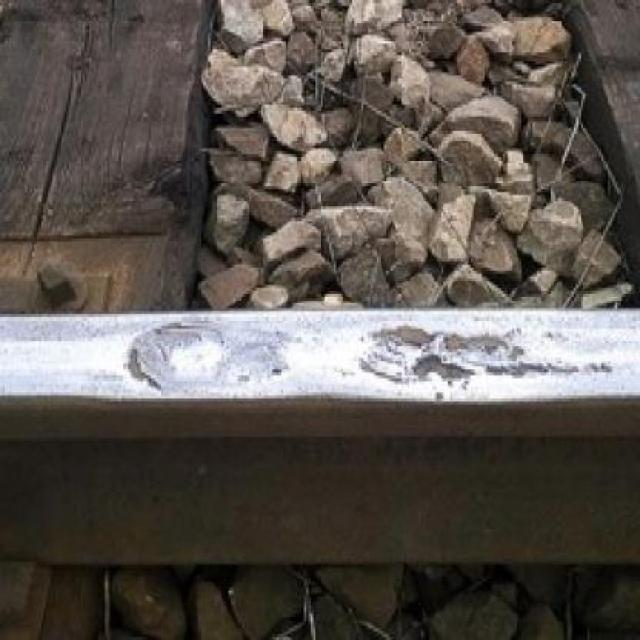defective: (56, 291, 640, 504)
